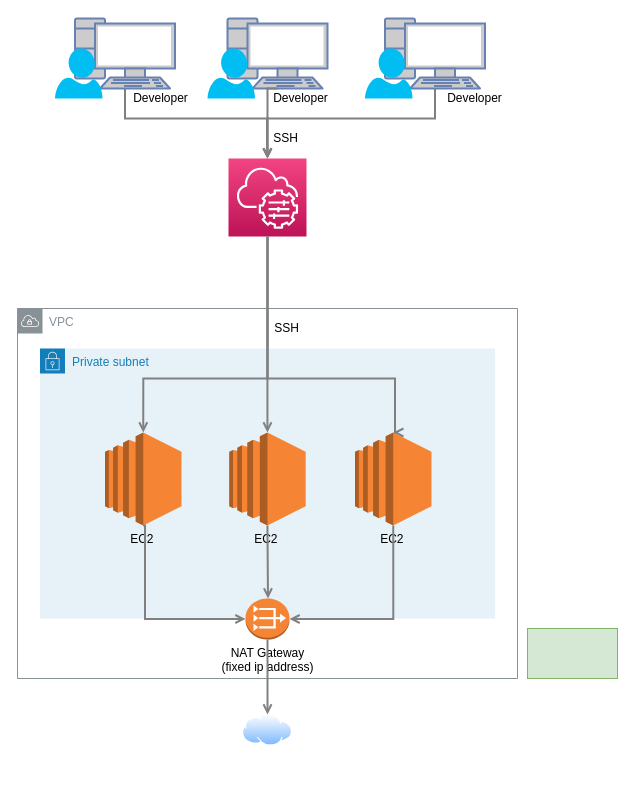
The diagram is 635 pixels wide and 787 high, and some of its shapes have lost their labels. Here are the shapes that lost their labels. From the top down, the centre of each, then its label:
At pixel 267 197: "Systems Manager".
At pixel 572 653: "EC2 - install Docker - install k3d".
At pixel 267 730: "Internet".
